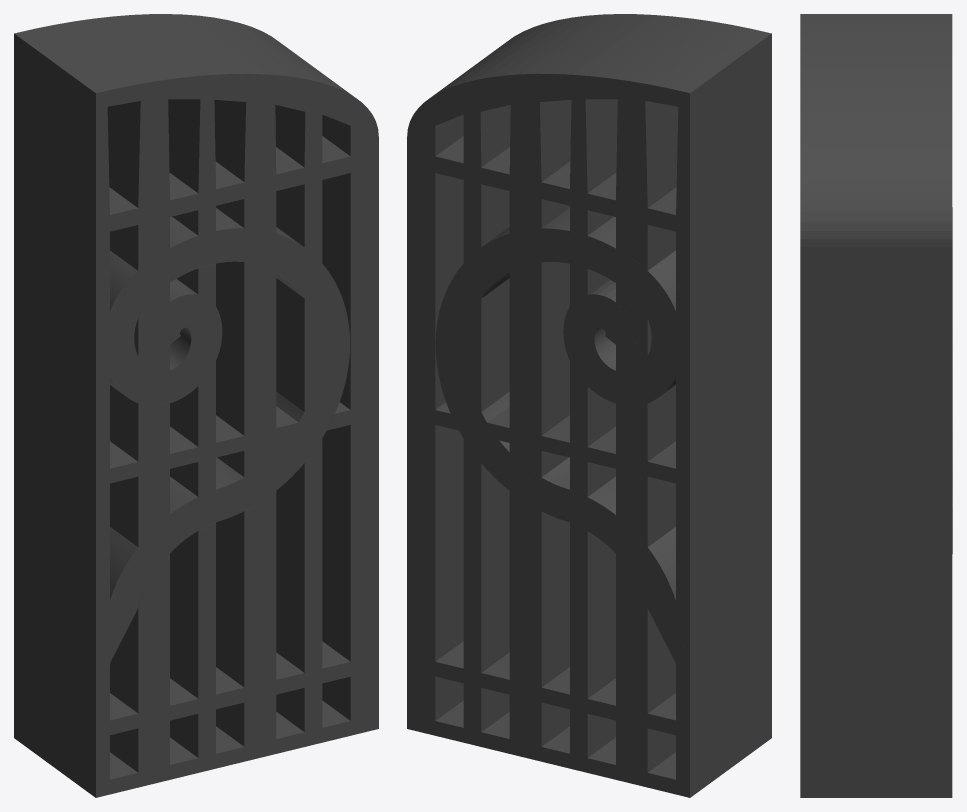
The model's file is GateLeftLush.fbx.
3 views of the same model, side by side, from view 1: azimuth 30°, elevation 25°; view 2: azimuth 150°, elevation 25°; view 3: azimuth 270°, elevation 25° (orthographic). The views are drawn at different scales.
Visible parts, largest first — view 1: 立方体.046; view 2: 立方体.046; view 3: 立方体.046.
Part boxes in pixels (x1,y1,x2,y2): 立方体.046: [14, 14, 378, 797]; 立方体.046: [407, 14, 771, 797]; 立方体.046: [800, 14, 952, 797].
Bounding box in the file's own units: 2 × 1 × 4.76.
Materials: 1 (1 with a texture image).
